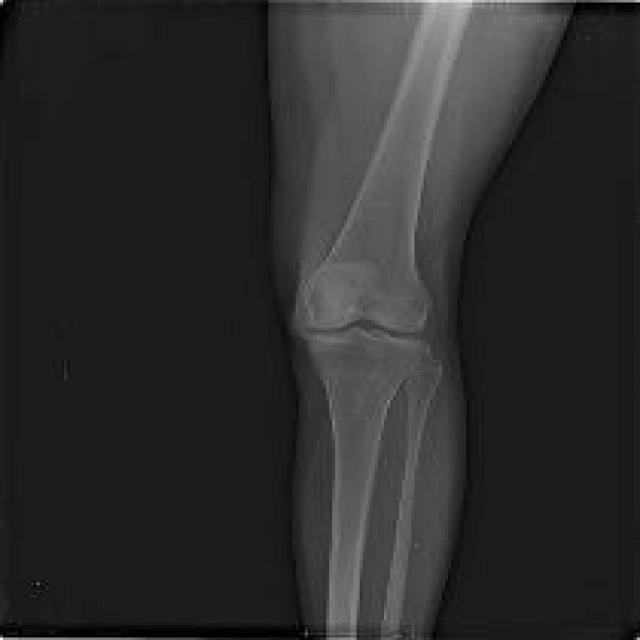normal: (305, 3, 470, 333), (303, 332, 439, 640)
